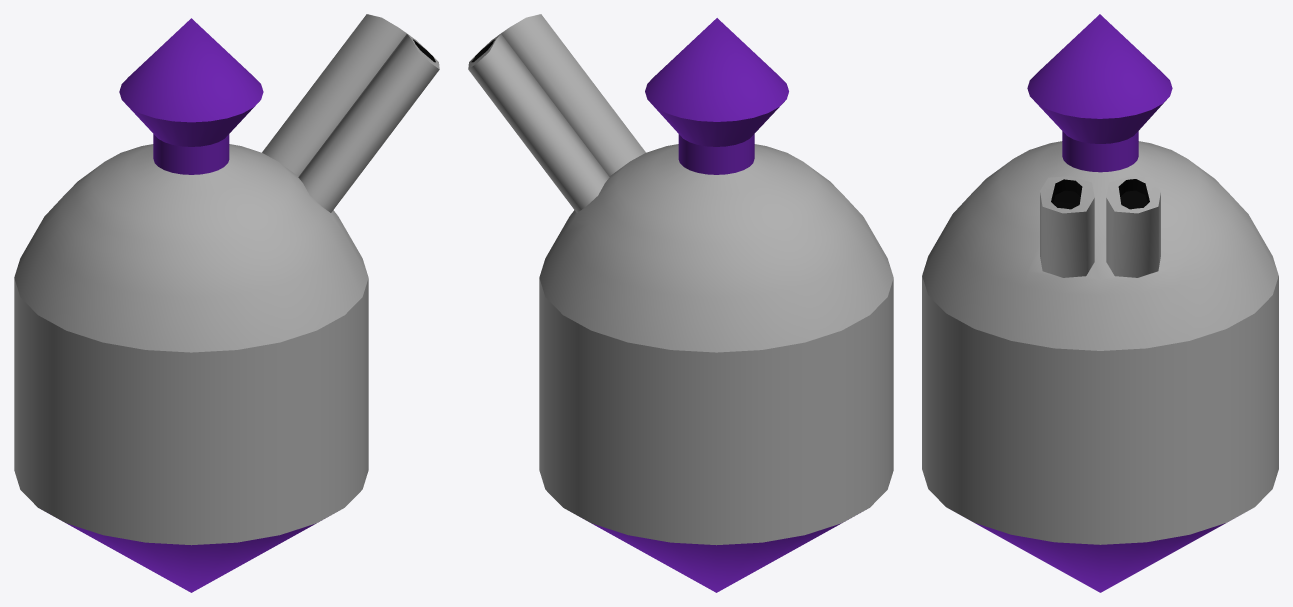
File: Anti-Air Turret.fbx
3 views of the same model, side by side, from view 1: azimuth 30°, elevation 25°; view 2: azimuth 150°, elevation 25°; view 3: azimuth 270°, elevation 25° (orthographic).
Parts seen in each view (by area): view 1: AA Turret Top; view 2: AA Turret Top; view 3: AA Turret Top.
Boxes of the visible parts, x1,y1,x2,y2 form: AA Turret Top: (14,14,439,592); AA Turret Top: (468,14,893,592); AA Turret Top: (922,14,1278,592).
Bounding box in the file's own units: 250 × 358 × 200.
